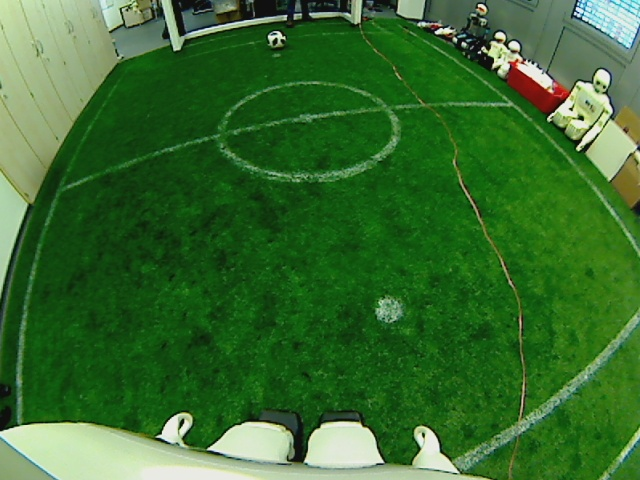ball: (266, 30, 287, 48)
